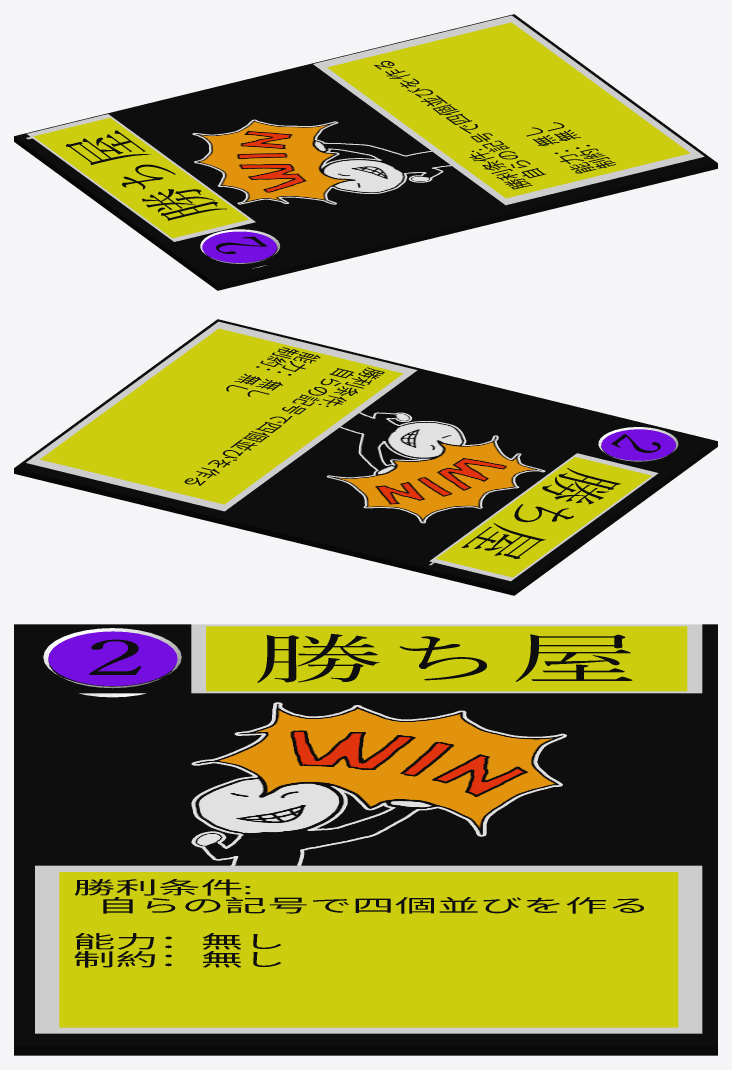
File: 勝ち屋黒.fbx
3 views of the same model, one above another, from view 1: azimuth 30°, elevation 25°; view 2: azimuth 150°, elevation 25°; view 3: azimuth 270°, elevation 25° (orthographic). The views are drawn at different scales.
Visible parts, largest first — view 1: カード本体.001, 説明欄, 平面.001, 名前欄, 説明文, 名前, 円, 平面; view 2: カード本体.001, 説明欄, 平面.001, 名前欄, 説明文, 名前, 円, 平面; view 3: カード本体.001, 説明欄, 平面.001, 名前欄, 説明文, 平面, 円, 名前, コスト蘭.
Part boxes in pixels (x1,y1,x2,y2): カード本体.001: (14, 14, 717, 290); 説明欄: (313, 15, 704, 205); 平面.001: (192, 119, 451, 204); 名前欄: (27, 114, 255, 241); 説明文: (374, 61, 615, 189); 名前: (66, 130, 226, 220); 円: (202, 231, 276, 262); 平面: (174, 222, 302, 275); カード本体.001: (14, 319, 717, 595); 説明欄: (26, 321, 417, 511); 平面.001: (326, 412, 545, 523); 名前欄: (429, 453, 658, 581); 説明文: (184, 347, 384, 485); 名前: (461, 468, 620, 558); 円: (601, 429, 675, 460); 平面: (577, 419, 704, 472); カード本体.001: (14, 624, 717, 1055); 説明欄: (35, 865, 702, 1033); 平面.001: (191, 702, 566, 865); 名前欄: (191, 624, 702, 693); 説明文: (74, 879, 643, 967); 平面: (30, 624, 191, 693); 円: (48, 631, 177, 686); 名前: (257, 634, 632, 682); コスト蘭: (43, 628, 181, 697).
Size of the model in its own units: 281 by 6.07 by 198.
